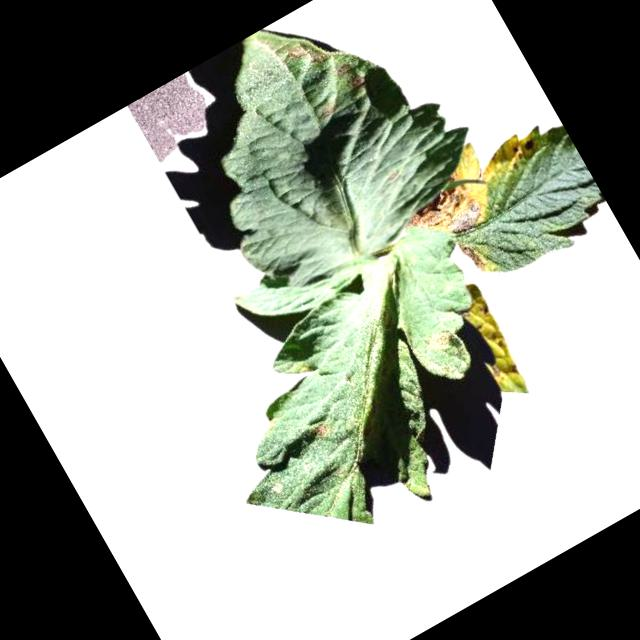Early_blight: (393, 162, 493, 255), (285, 32, 331, 75), (332, 56, 367, 92), (451, 234, 485, 271), (488, 351, 522, 384), (423, 326, 455, 356), (512, 127, 542, 158), (304, 416, 333, 443)
